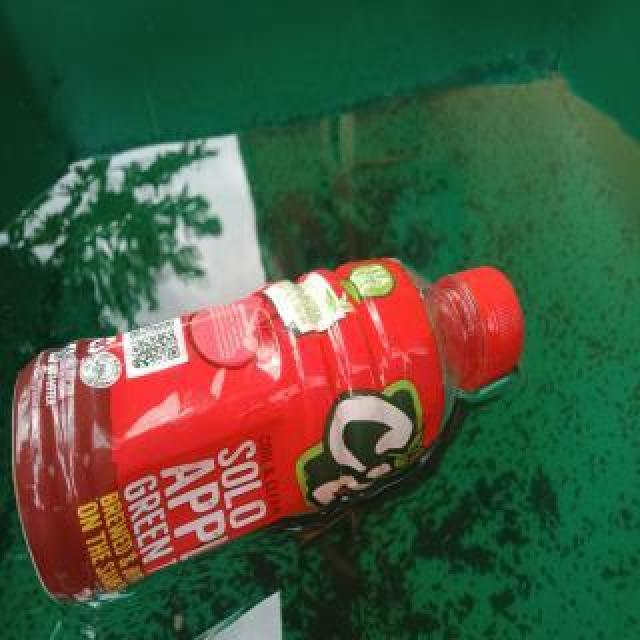bottle: (7, 249, 529, 609)
